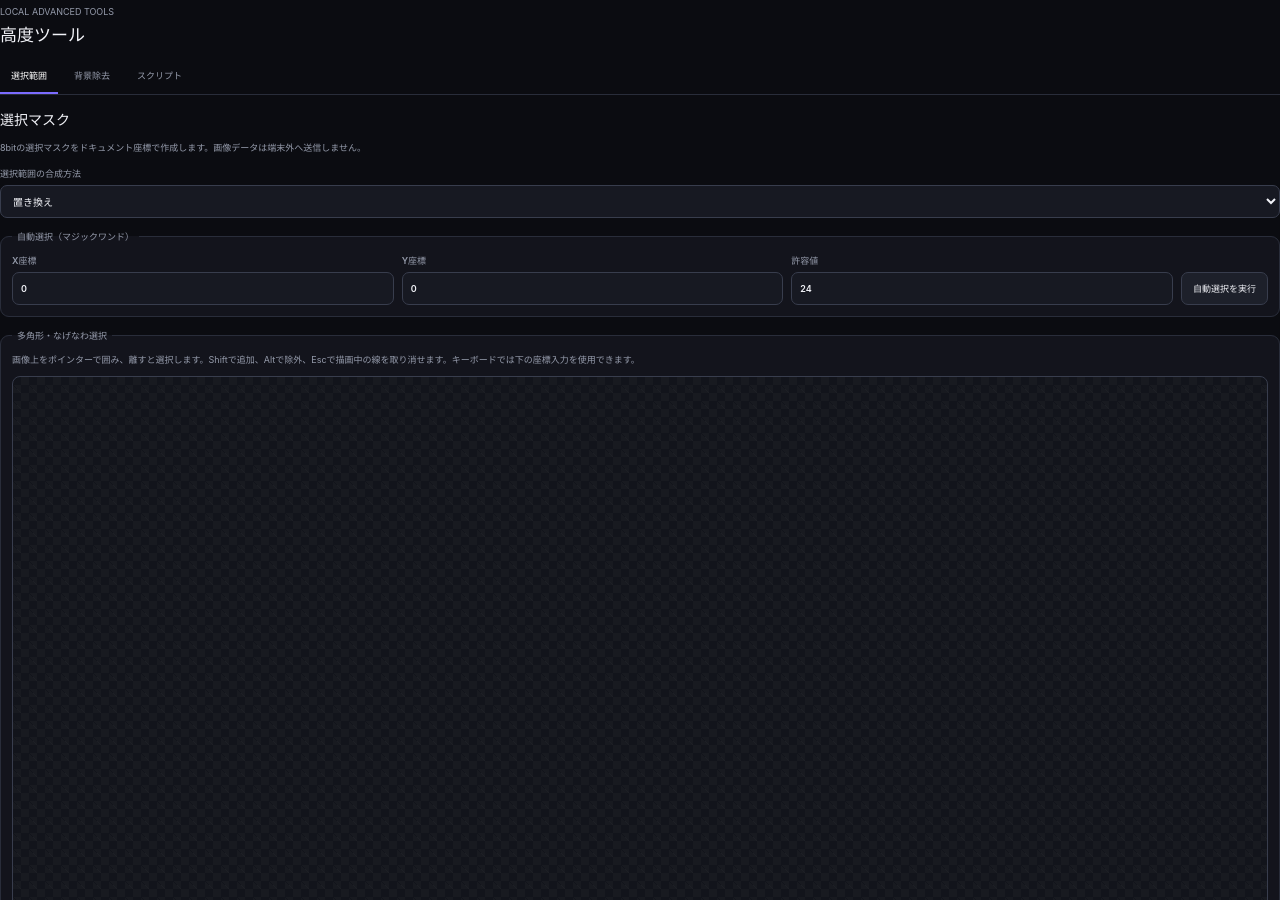
Test: AdvancedToolsPanel › keeps execution consent session-only and removes the cached model on request
Click the tab "背景除去" at (92, 77), box x1=63 y1=60 x2=121 y2=94
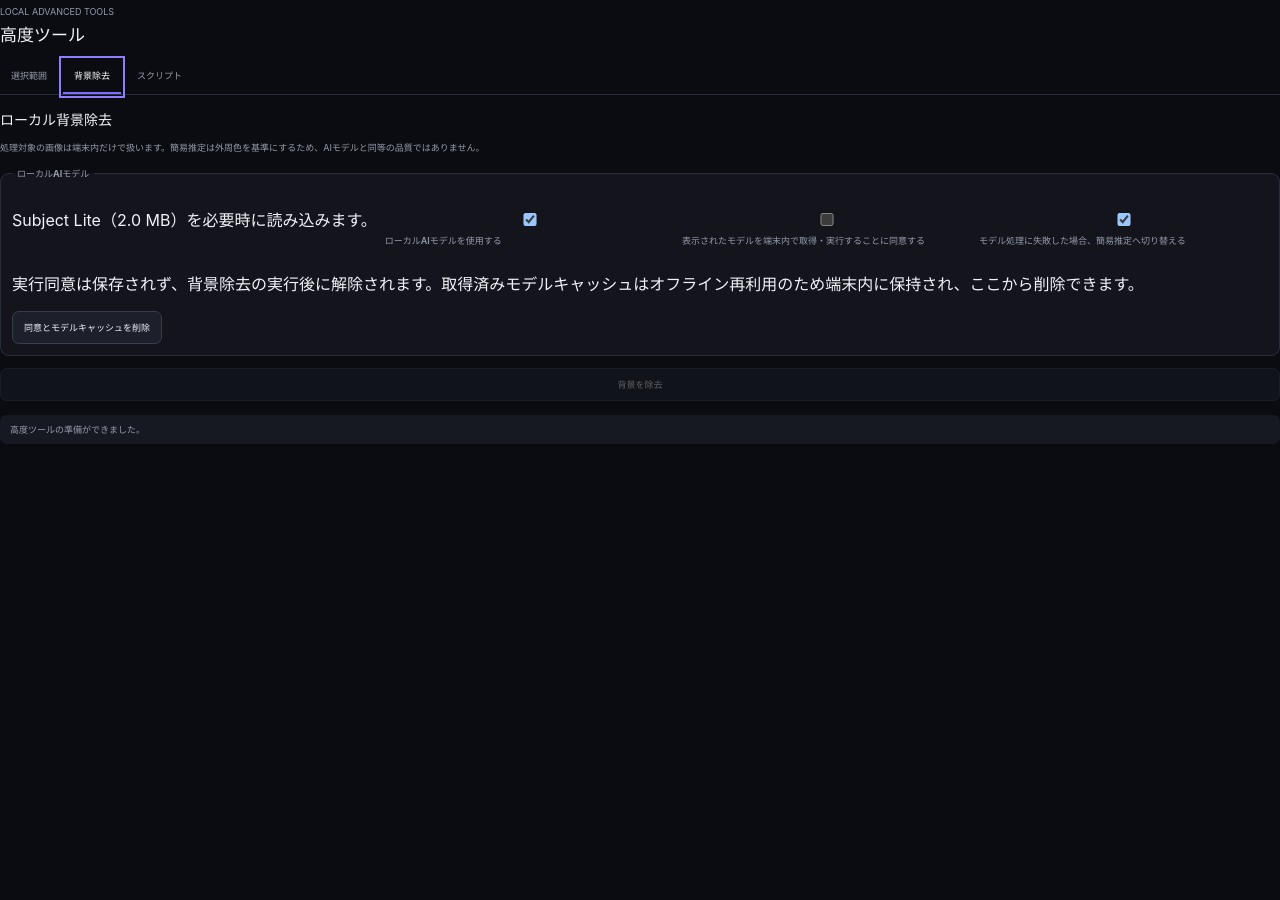
Expected: the text "実行同意は保存されず、背景除去の実行後に解除" is shown, x1=12 y1=274 x2=1144 y2=294
Click the checkbox labelled "表示されたモデルを端末内で取得・実行することに同意する" at (827, 220), box x1=686 y1=213 x2=968 y2=226
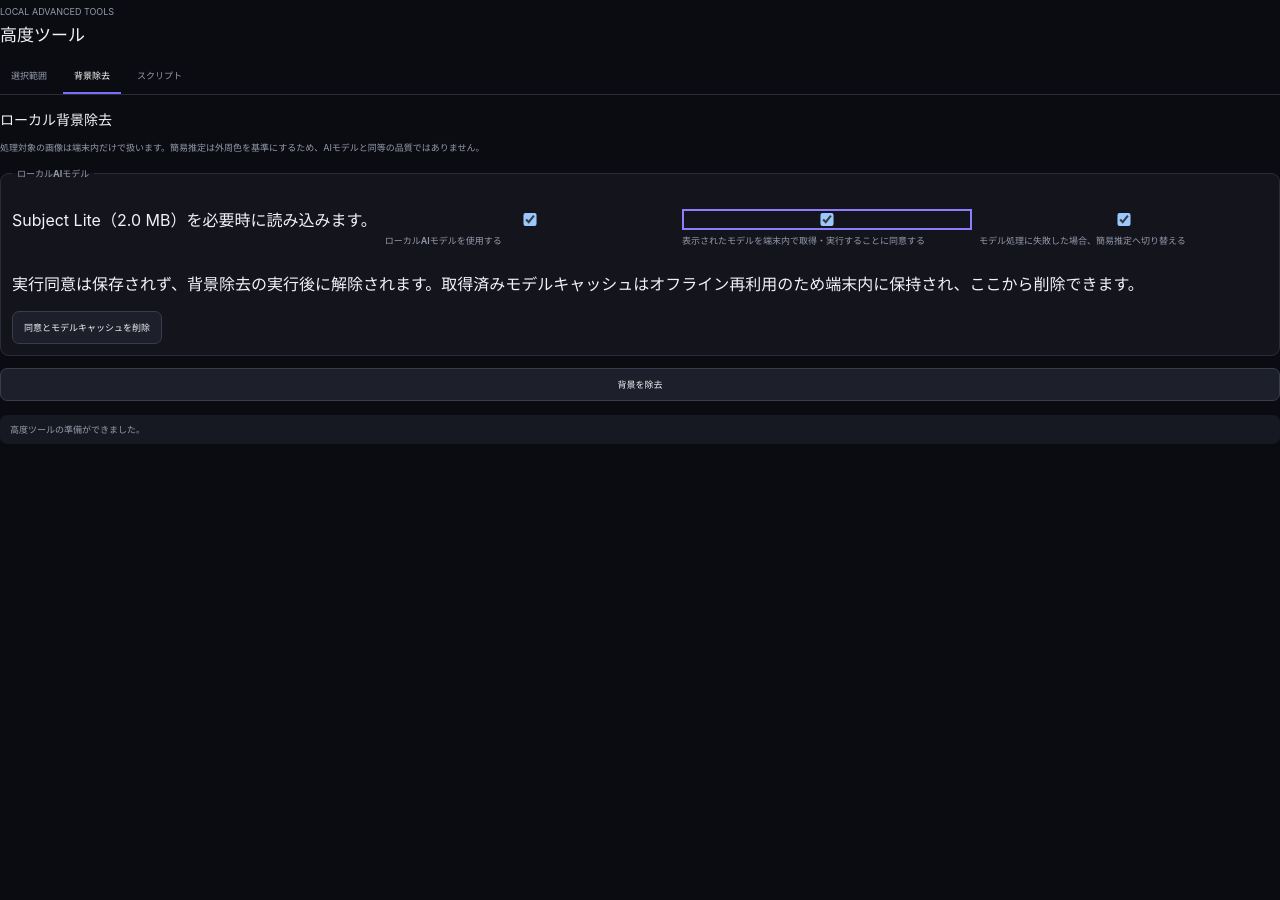
Click the button "同意とモデルキャッシュを削除" at (87, 328), box x1=12 y1=311 x2=162 y2=344
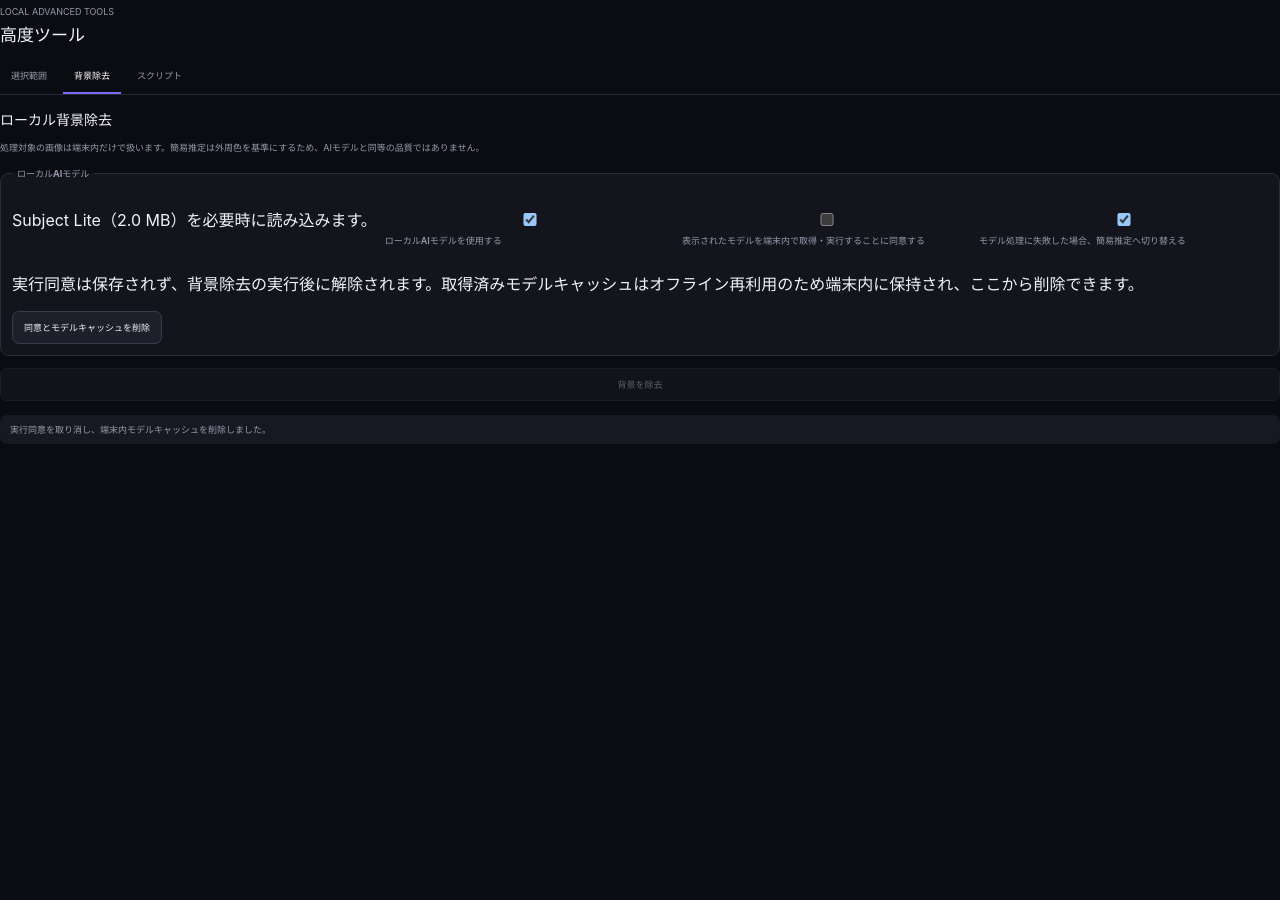
Expected: the checkbox labelled "表示されたモデルを端末内で取得・実行することに同意する" is not checked, x1=686 y1=213 x2=968 y2=226
Expected: the message reads "実行同意を取り消し、端末内モデルキャッシュを削除しました。", x1=10 y1=424 x2=271 y2=435
